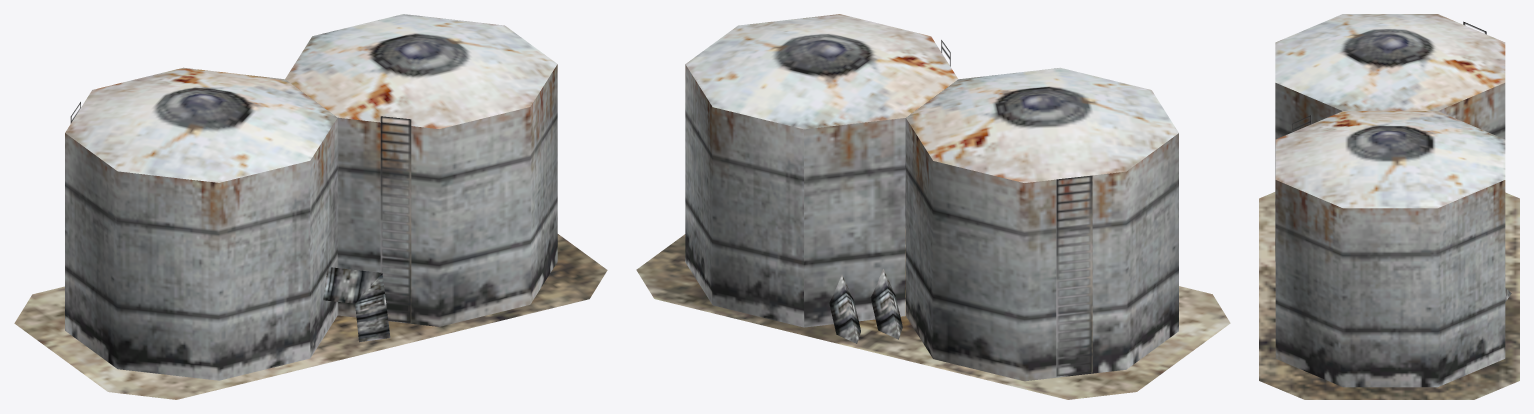
Rendered from Civilian - Civilian Building - Stan Oil Tank 02 - CBTOilTnk2.glb.
3 renders of one model, left to right at view 1: azimuth 30°, elevation 25°; view 2: azimuth 150°, elevation 25°; view 3: azimuth 270°, elevation 25°, orthographic. The views are drawn at different scales.
Visible parts, largest first — view 1: CBTOILTNK2; view 2: CBTOILTNK2; view 3: CBTOILTNK2.
Part boxes in pixels (left/top/right/bottom): CBTOILTNK2: left=14, top=14, right=607, bottom=399; CBTOILTNK2: left=636, top=14, right=1230, bottom=399; CBTOILTNK2: left=1259, top=14, right=1519, bottom=399.
Bounding box in the file's own units: 80 × 35.18 × 40.
Materials: 1 (1 with a texture image).
